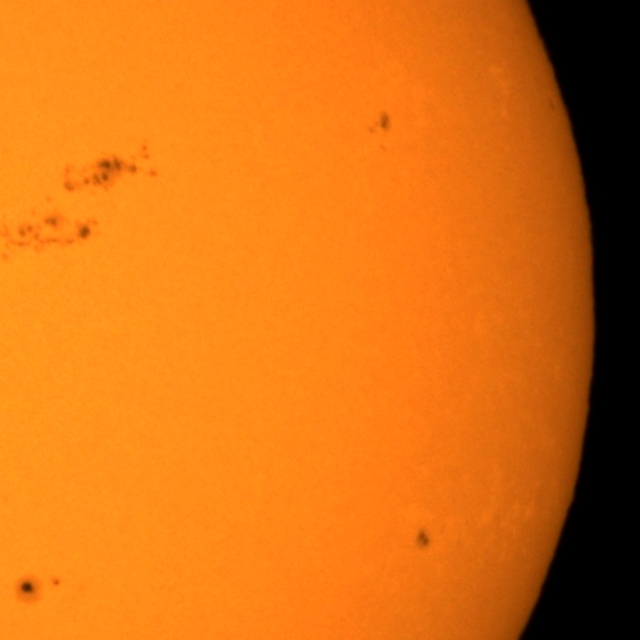sunspot: (55, 154, 133, 196), (8, 214, 78, 253), (98, 143, 161, 184), (31, 212, 98, 247), (17, 576, 63, 602), (366, 111, 394, 138), (16, 578, 39, 601), (415, 528, 433, 552), (51, 576, 62, 588)
